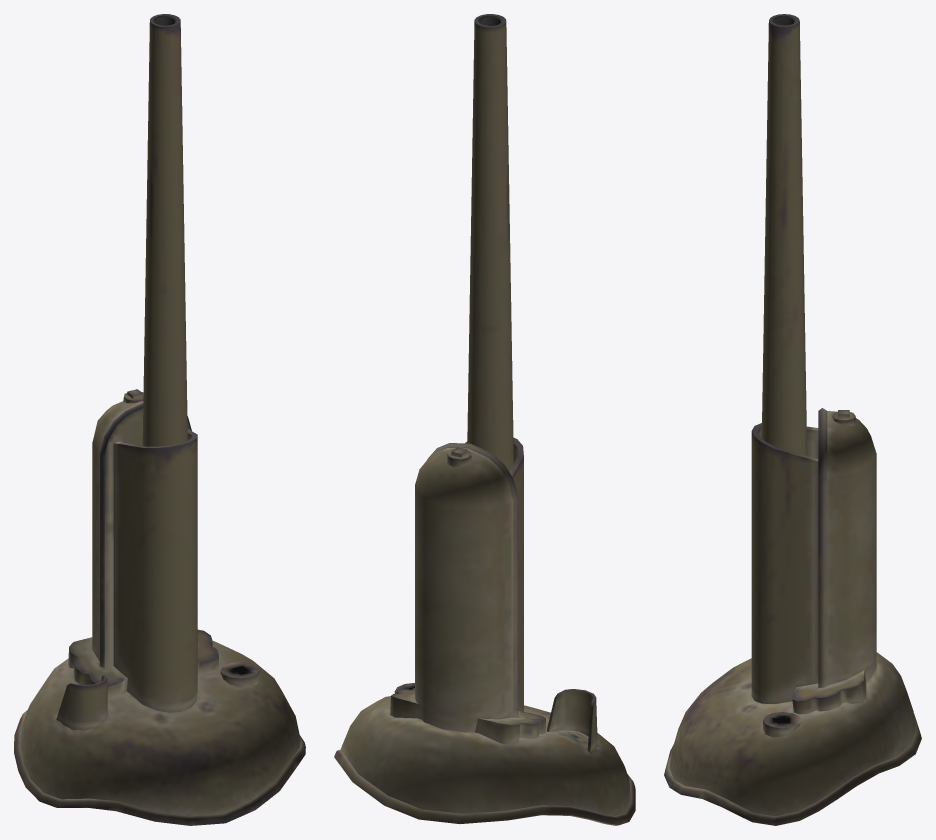
Rendered from Gun_02.glb.
3 views of the same model, side by side, from view 1: azimuth 30°, elevation 25°; view 2: azimuth 150°, elevation 25°; view 3: azimuth 270°, elevation 25° (orthographic). The views are drawn at different scales.
Visible parts, largest first — view 1: set_0_group_0; view 2: set_0_group_0; view 3: set_0_group_0.
Boxes of the visible parts, box(x1,y1,x2,y2) form: set_0_group_0: box(14, 14, 305, 825); set_0_group_0: box(334, 14, 635, 825); set_0_group_0: box(664, 14, 921, 825).
Size of the model in its own units: 0.5328 by 1.46 by 0.4533.
1 material, 1 textured.
